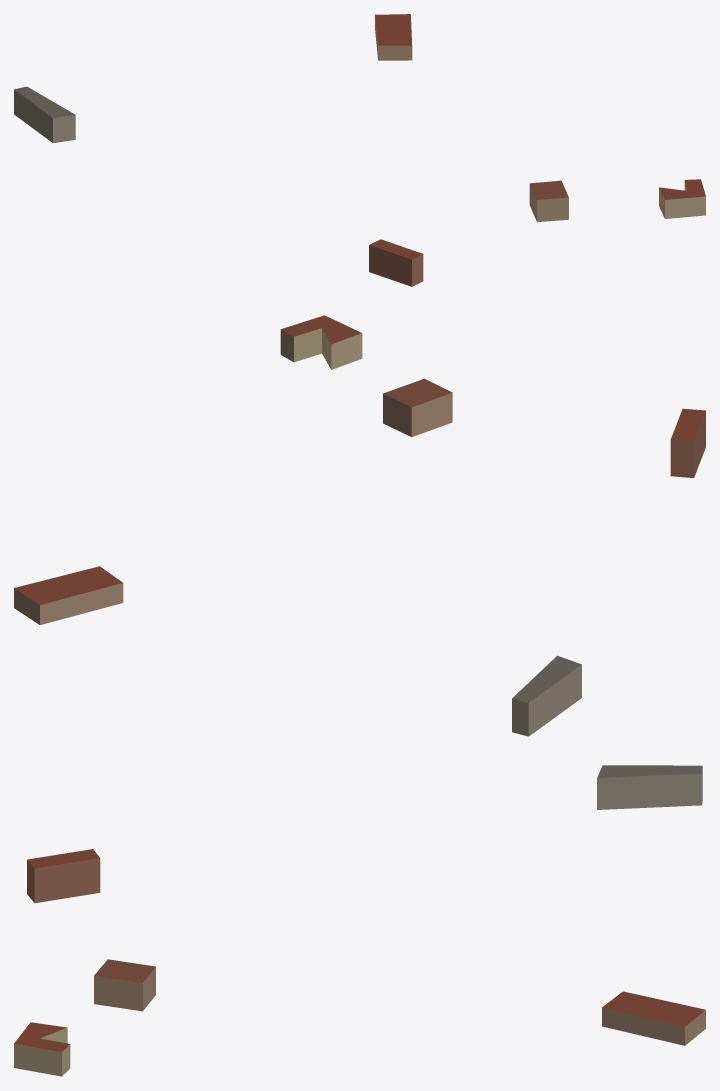
The model's file is SM_Fondale_Citta_Colle_07_LOD2.fbx.
The picture shows the model from 3 angles, top to bottom: view 1: azimuth 30°, elevation 25°; view 2: azimuth 150°, elevation 25°; view 3: azimuth 270°, elevation 25°; orthographic projection. The views are drawn at different scales.
Parts seen in each view (by area): view 1: SM_Fondale_Citta_Colle_07_LOD2; view 2: SM_Fondale_Citta_Colle_07_LOD2; view 3: SM_Fondale_Citta_Colle_07_LOD2.
Part boxes in pixels (box(x1,y1,x2,y2)): SM_Fondale_Citta_Colle_07_LOD2: box(14, 14, 705, 286); SM_Fondale_Citta_Colle_07_LOD2: box(14, 315, 705, 736); SM_Fondale_Citta_Colle_07_LOD2: box(14, 765, 705, 1076).
Size of the model in its own units: 26763 by 28845 by 2115.
